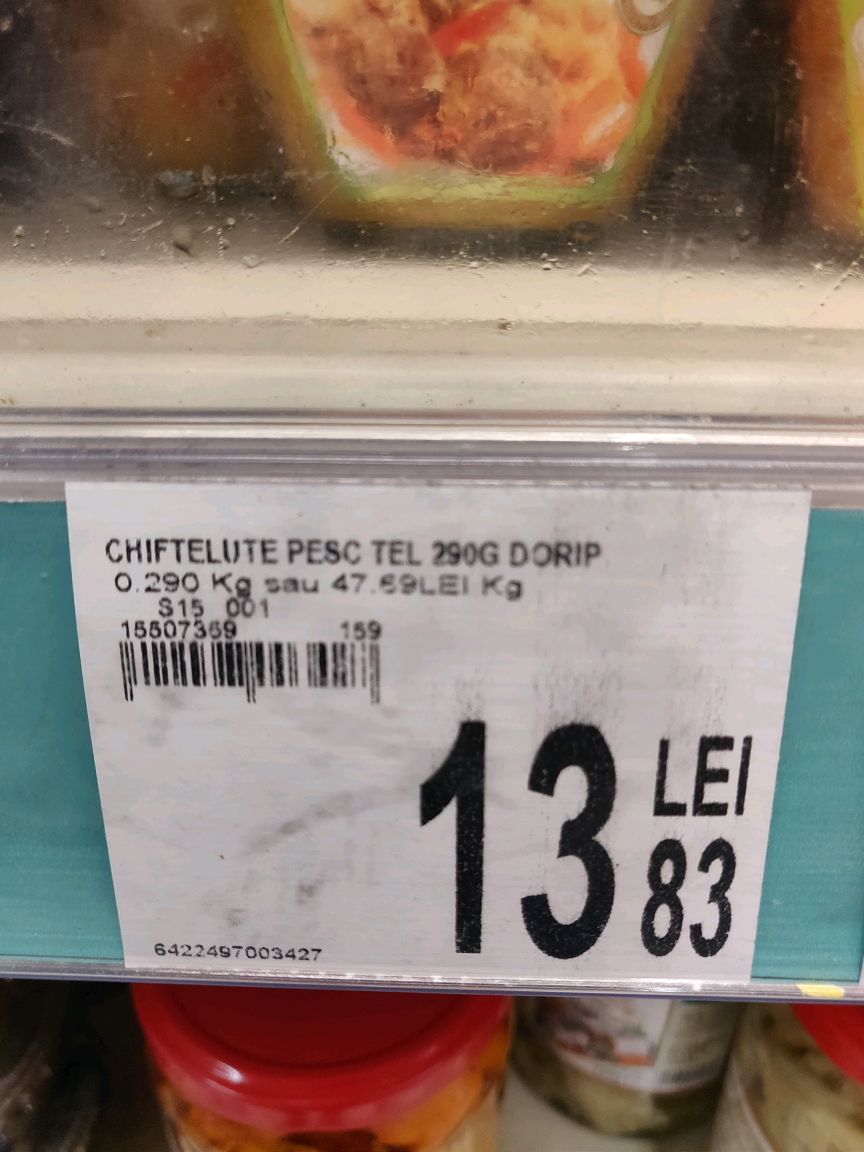price_bani: (635, 827, 749, 965)
price_lei: (405, 702, 629, 975)
price_tag: (56, 476, 820, 997)
product_id: (137, 929, 333, 971)
product_name: (98, 529, 618, 572)
